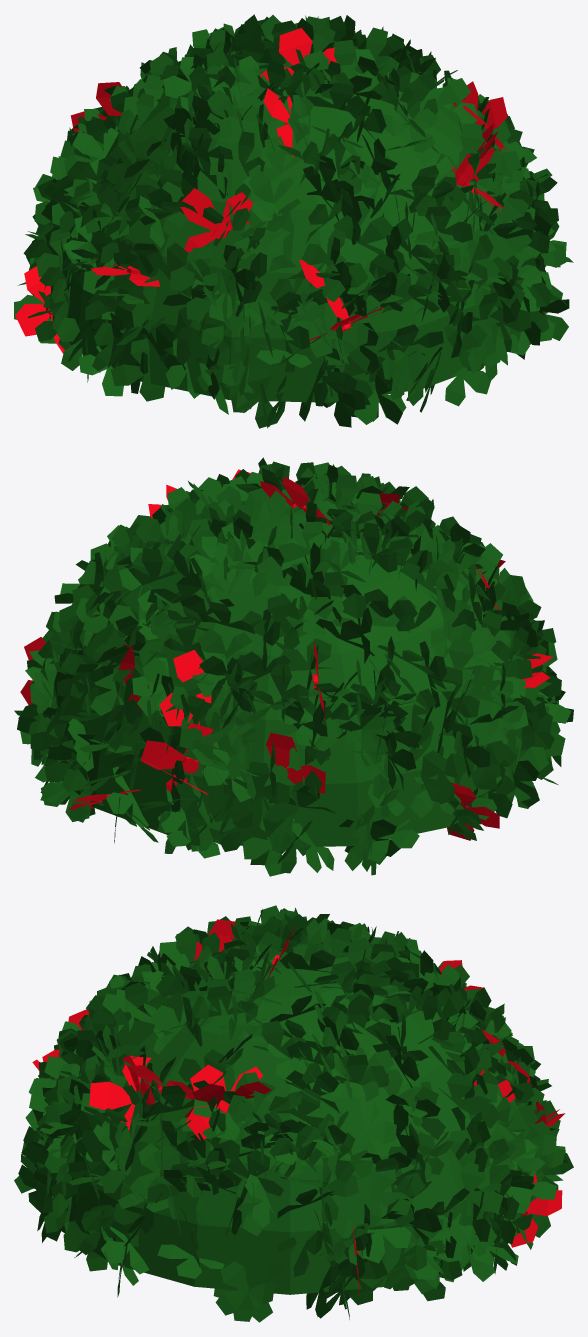
File: Bush.fbx
3 views of the same model, one above another, from view 1: azimuth 30°, elevation 25°; view 2: azimuth 150°, elevation 25°; view 3: azimuth 270°, elevation 25° (orthographic).
Parts seen in each view (by area): view 1: Bush, Bush|Flower|Dupli|4.1, Bush|Leaf|Dupli|617, Bush|Flower|Dupli|17.1, Bush|Leaf|Dupli|542, Bush|Flower|Dupli|12.1, Bush|Leaf|Dupli|563, Bush|Leaf|Dupli|556, Bush|Leaf|Dupli|502, Bush|Leaf|Dupli|209, Bush|Leaf|Dupli|568, Bush|Leaf|Dupli|543 (+91 smaller); view 2: Bush, Bush|Flower|Dupli|2.1, Bush|Flower|Dupli|8.1, Bush|Leaf|Dupli|466, Bush|Flower|Dupli|14.1, Bush|Leaf|Dupli|178, Bush|Leaf|Dupli|233, Bush|Leaf|Dupli|355, Bush|Leaf|Dupli|244, Bush|Leaf|Dupli|207, Bush|Leaf|Dupli|629, Bush|Leaf|Dupli|322 (+81 smaller); view 3: Bush, Bush|Leaf|Dupli|416, Bush|Flower|Dupli|1.1, Bush|Leaf|Dupli|185, Bush|Leaf|Dupli|275, Bush|Flower|Dupli|9.1, Bush|Leaf|Dupli|562, Bush|Leaf|Dupli|588, Bush|Flower|Dupli|5.1, Bush|Leaf|Dupli|426, Bush|Leaf|Dupli|665, Bush|Leaf|Dupli|265 (+75 smaller).
Boxes of the visible parts, x1,y1,x2,y2 form: Bush: [49, 49, 530, 402]; Bush|Flower|Dupli|4.1: [180, 188, 252, 252]; Bush|Leaf|Dupli|617: [111, 338, 165, 401]; Bush|Flower|Dupli|17.1: [15, 266, 64, 353]; Bush|Leaf|Dupli|542: [219, 95, 278, 138]; Bush|Flower|Dupli|12.1: [260, 28, 336, 80]; Bush|Leaf|Dupli|563: [231, 367, 283, 428]; Bush|Leaf|Dupli|556: [445, 366, 491, 406]; Bush|Leaf|Dupli|502: [333, 215, 392, 254]; Bush|Leaf|Dupli|209: [283, 307, 343, 357]; Bush|Leaf|Dupli|568: [248, 136, 300, 181]; Bush|Leaf|Dupli|543: [248, 171, 293, 227]; Bush: [53, 501, 526, 847]; Bush|Flower|Dupli|2.1: [140, 723, 214, 792]; Bush|Flower|Dupli|8.1: [159, 649, 211, 726]; Bush|Leaf|Dupli|466: [224, 761, 289, 810]; Bush|Flower|Dupli|14.1: [266, 732, 325, 793]; Bush|Leaf|Dupli|178: [420, 750, 452, 803]; Bush|Leaf|Dupli|233: [448, 639, 494, 686]; Bush|Leaf|Dupli|355: [242, 816, 296, 876]; Bush|Leaf|Dupli|244: [324, 571, 366, 618]; Bush|Leaf|Dupli|207: [280, 638, 333, 670]; Bush|Leaf|Dupli|629: [62, 769, 103, 822]; Bush|Leaf|Dupli|322: [106, 766, 148, 828]; Bush: [43, 943, 533, 1294]; Bush|Leaf|Dupli|416: [215, 1261, 272, 1322]; Bush|Flower|Dupli|1.1: [89, 1056, 151, 1131]; Bush|Leaf|Dupli|185: [367, 1166, 412, 1227]; Bush|Leaf|Dupli|275: [460, 1162, 503, 1226]; Bush|Flower|Dupli|9.1: [185, 1064, 263, 1140]; Bush|Leaf|Dupli|562: [438, 1072, 491, 1116]; Bush|Leaf|Dupli|588: [321, 1157, 358, 1221]; Bush|Flower|Dupli|5.1: [510, 1174, 562, 1247]; Bush|Leaf|Dupli|426: [354, 1226, 411, 1263]; Bush|Leaf|Dupli|665: [157, 1244, 224, 1278]; Bush|Leaf|Dupli|265: [351, 1103, 396, 1160].
Bounding box in the file's own units: 220 × 129 × 223.
